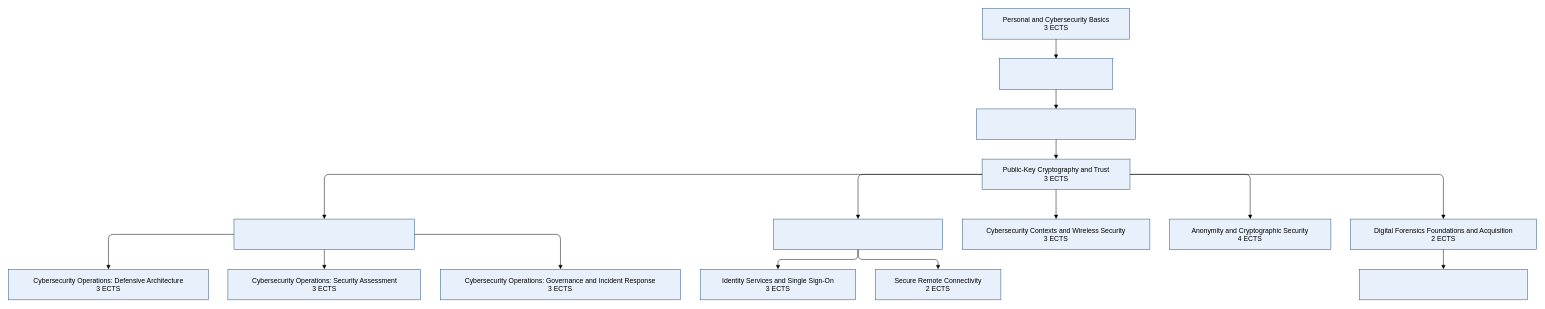
This 1545x309 diagram has some shape labels left out. Here are the shapes that lost their labels. From the top down, the centre of each, then its label:
the point at 1056,73: Cryptographic Principles 3 ECTS
the point at 1056,124: Symmetric Cryptographic Mechanisms 3 ECTS
the point at 324,234: Cybersecurity Operations: Security Controls 3 ECTS
the point at 858,234: Windows and Linux Systems Foundations 3 ECTS
the point at 1443,284: Digital Forensics Analysis and Reporting 3 ECTS
